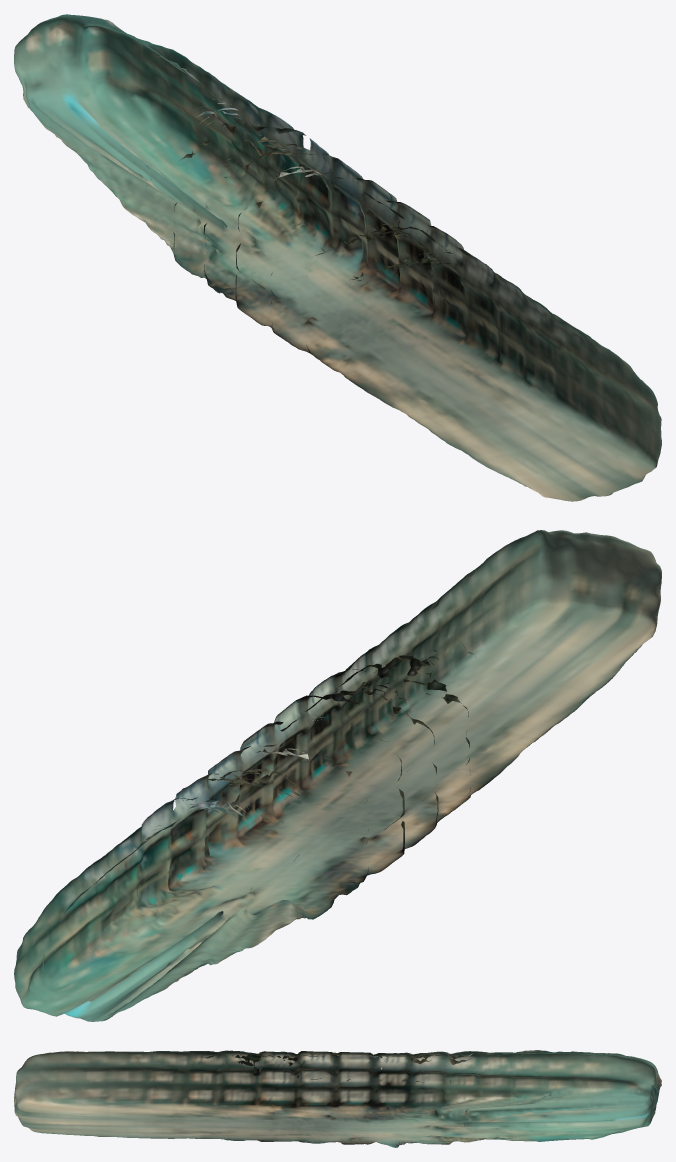
Rendered from environment_collider.glb.
3 views of the same model, one above another, from view 1: azimuth 30°, elevation 25°; view 2: azimuth 150°, elevation 25°; view 3: azimuth 270°, elevation 25° (orthographic). The views are drawn at different scales.
Parts seen in each view (by area): view 1: world; view 2: world; view 3: world.
Part boxes in pixels (left/top/right/bottom): world: left=14, top=14, right=661, bottom=501; world: left=14, top=530, right=661, bottom=1021; world: left=14, top=1050, right=661, bottom=1147.
Size of the model in its own units: 1.04 by 0.7912 by 6.28.
